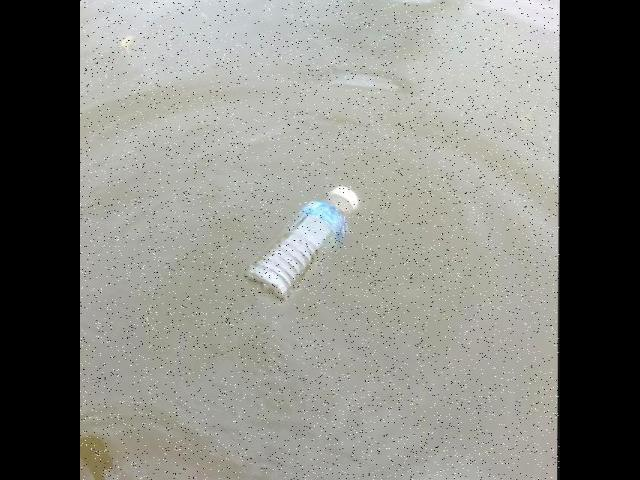Bottle: (240, 175, 364, 309)
